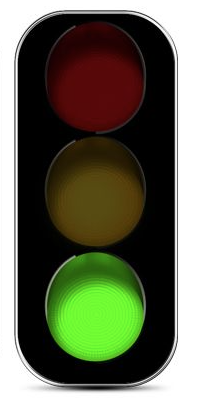green: (14, 11, 192, 401)
